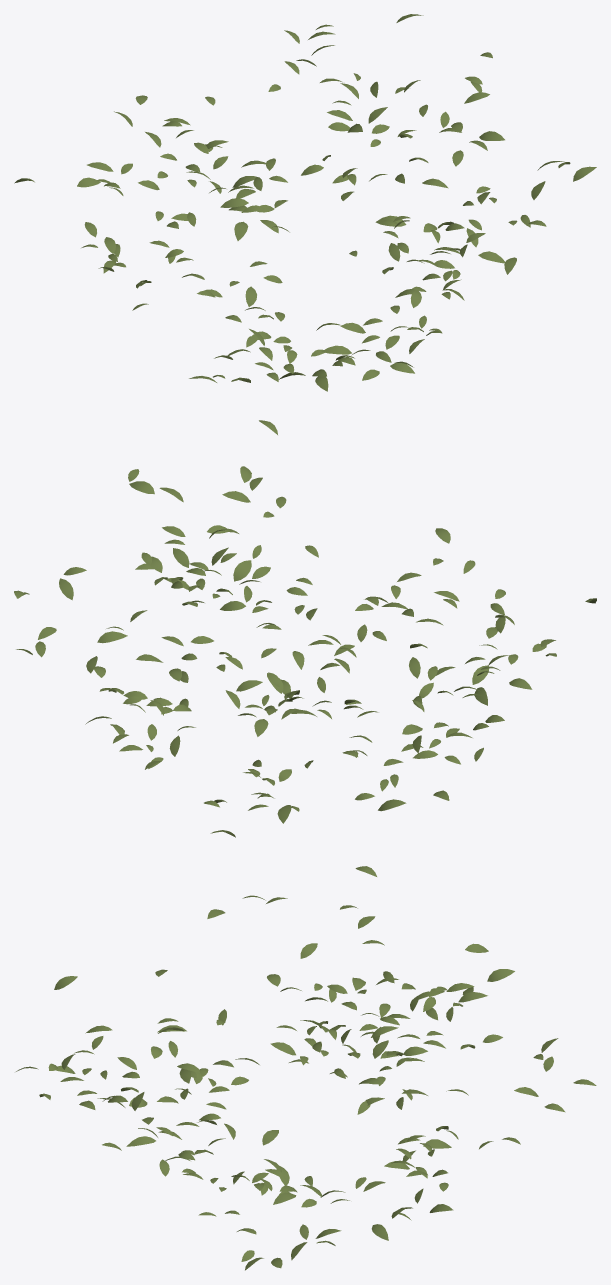
File: s99-tree-foliage_tip.glb
3 views of the same model, one above another, from view 1: azimuth 30°, elevation 25°; view 2: azimuth 150°, elevation 25°; view 3: azimuth 270°, elevation 25° (orthographic). The views are drawn at different scales.
Parts seen in each view (by area): view 1: s97_source_foliage_tip_mesh_model:0; view 2: s97_source_foliage_tip_mesh_model:0; view 3: s97_source_foliage_tip_mesh_model:0.
Boxes of the visible parts, x1,y1,x2,y2 form: s97_source_foliage_tip_mesh_model:0: [14, 14, 596, 391]; s97_source_foliage_tip_mesh_model:0: [14, 420, 596, 837]; s97_source_foliage_tip_mesh_model:0: [16, 866, 596, 1270].
Size of the model in its own units: 3.16 by 2.11 by 3.44.
Materials: 1 (1 with a texture image).
